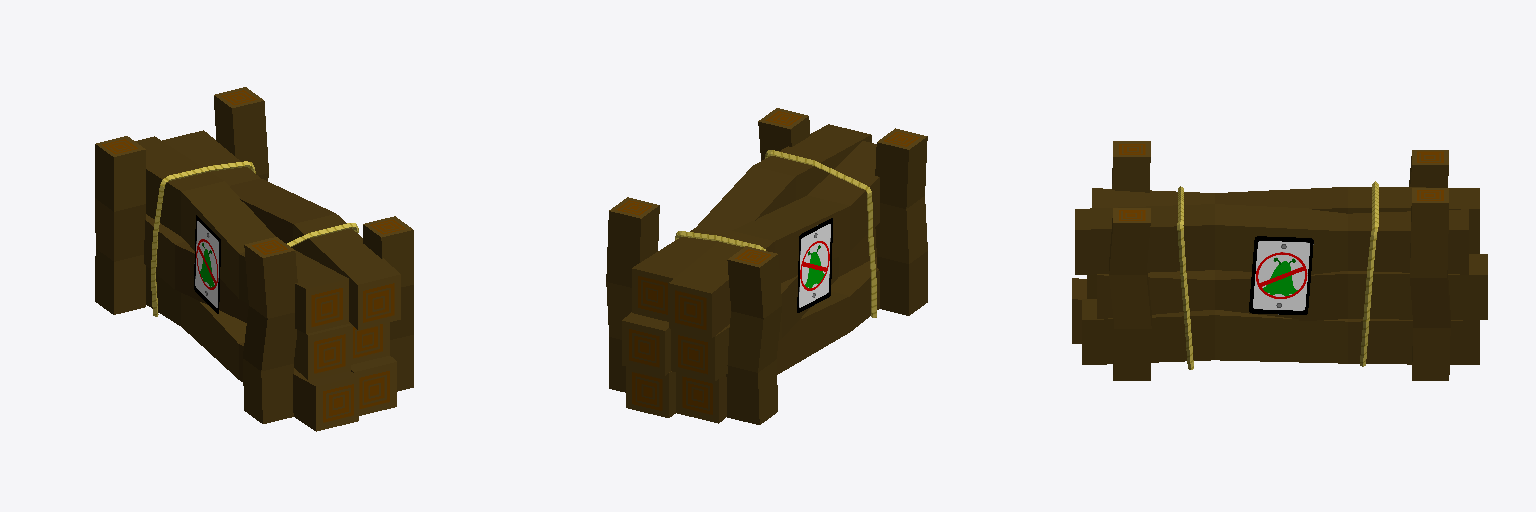
3 renders of one model, left to right at view 1: azimuth 30°, elevation 25°; view 2: azimuth 150°, elevation 25°; view 3: azimuth 270°, elevation 25°, orthographic.
Parts seen in each view (by area): view 1: Cube.001; view 2: Cube.001; view 3: Cube.001.
Boxes of the visible parts, box(x1,y1,x2,y2) form: Cube.001: box(95, 87, 413, 431); Cube.001: box(606, 108, 927, 424); Cube.001: box(1072, 141, 1487, 380).
Size of the model in its own units: 7.25 by 7.88 by 16.72.
1 materials, 1 textured.